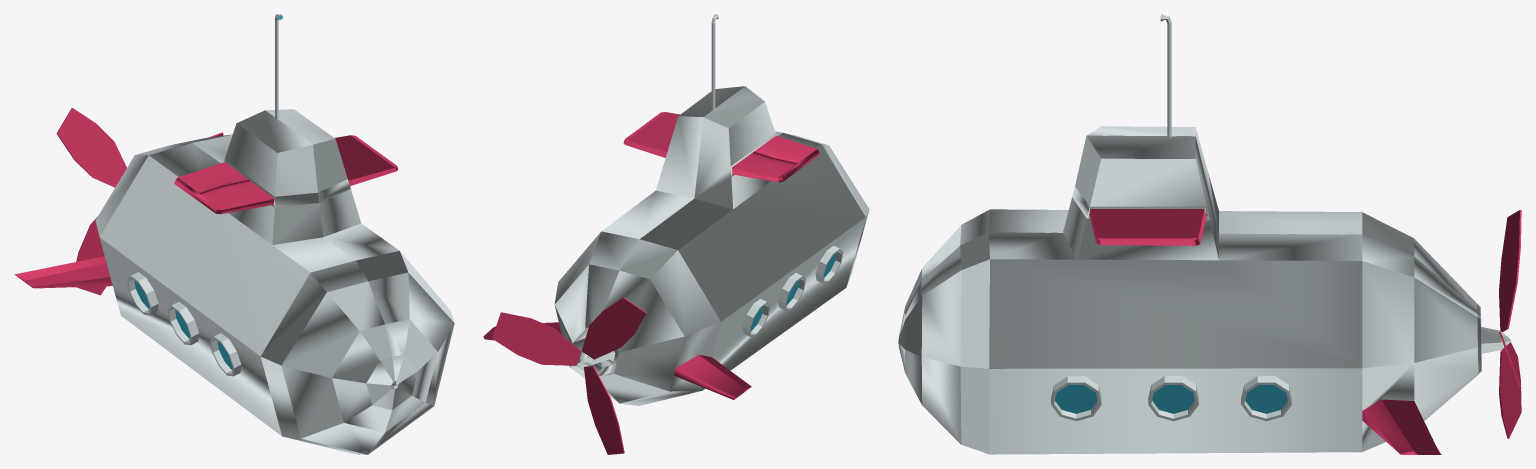
Rendered from Submarine.fbx.
3 views of the same model, side by side, from view 1: azimuth 30°, elevation 25°; view 2: azimuth 150°, elevation 25°; view 3: azimuth 270°, elevation 25° (orthographic). The views are drawn at different scales.
Visible parts, largest first — view 1: Body, Cube_1, Cylinder_2, Cylinder_1, Cylinder_3, Cube_0, Perescope; view 2: Body, Cube_2, Cube_1, Cube_0, Cylinder_1, Cylinder_2, Cylinder_3, Perescope; view 3: Body, Cube_1, Cylinder_1, Cylinder_2, Cylinder_3, Cube_0, Perescope.
Part boxes in pixels (box(x1,y1,x2,y2)): Body: box(14, 109, 454, 454); Cube_1: box(56, 108, 126, 187); Cylinder_2: box(167, 302, 199, 345); Cylinder_1: box(127, 272, 158, 315); Cylinder_3: box(210, 333, 241, 376); Cube_0: box(76, 216, 106, 295); Perescope: box(275, 14, 282, 119); Body: box(483, 86, 869, 405); Cube_2: box(492, 312, 581, 365); Cube_1: box(582, 297, 646, 359); Cube_0: box(584, 366, 624, 454); Cylinder_1: box(742, 299, 770, 336); Cylinder_2: box(778, 273, 805, 310); Cylinder_3: box(815, 245, 843, 283); Perescope: box(711, 14, 718, 110); Body: box(898, 126, 1510, 454); Cube_1: box(1499, 210, 1521, 332); Cylinder_1: box(1241, 376, 1291, 421); Cylinder_2: box(1148, 376, 1198, 421); Cylinder_3: box(1051, 376, 1101, 421); Cube_0: box(1499, 337, 1521, 438); Perescope: box(1160, 14, 1171, 137).
Bounding box in the file's own units: 148 × 188 × 242.
